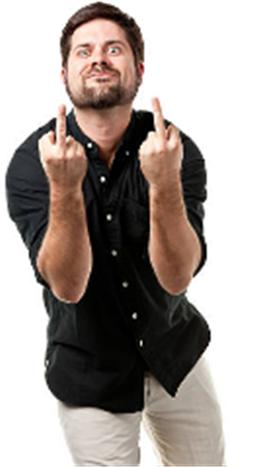insulting_gesture: (138, 93, 190, 199), (35, 100, 89, 190)
